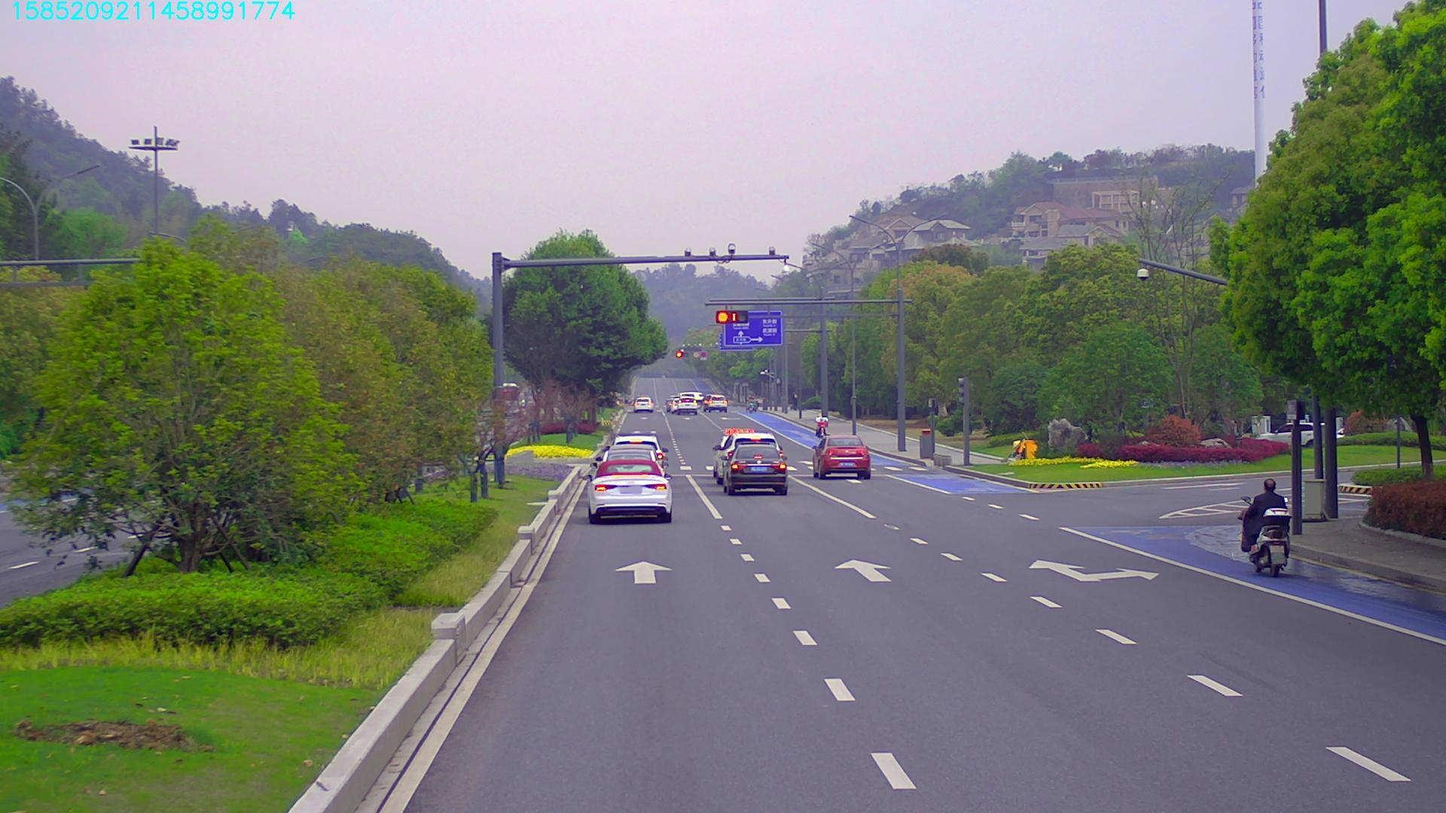red: (712, 310, 749, 321)
